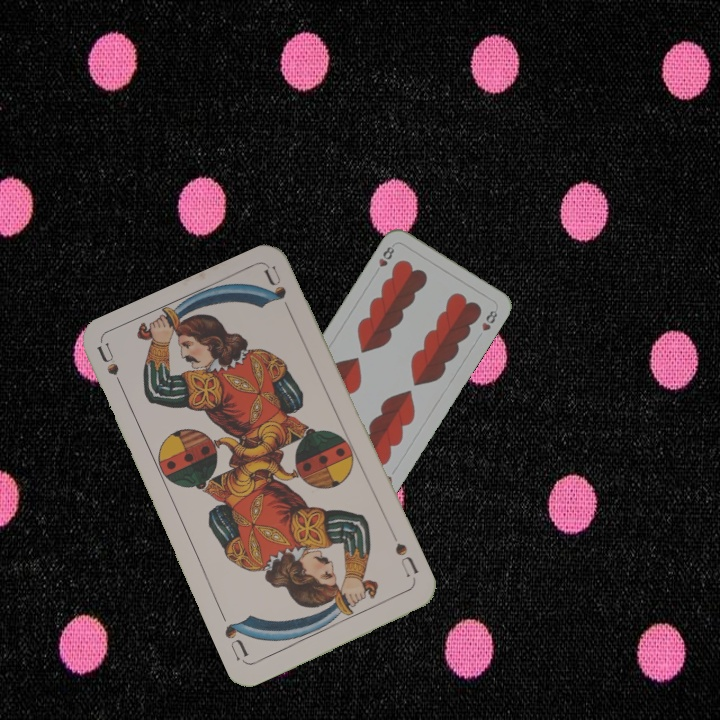H8: (371, 242, 397, 277)
SU: (93, 340, 129, 398), (390, 538, 421, 586)
